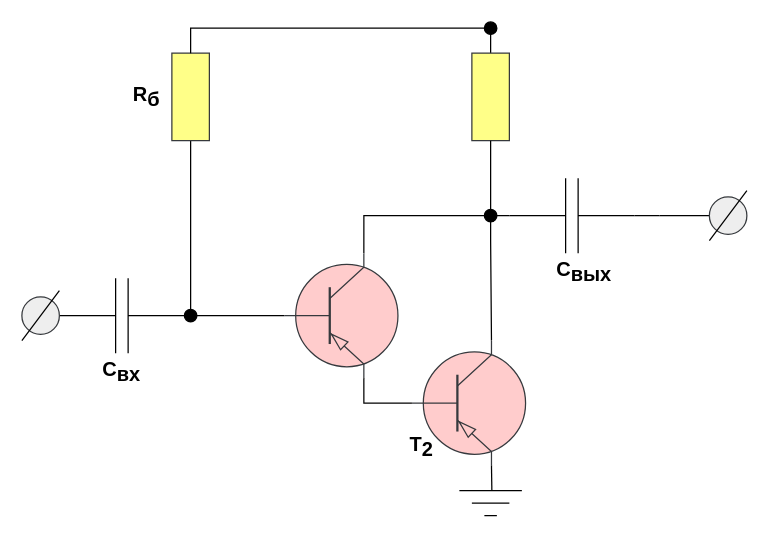
The diagram is 770 pixels wide and 539 high, and some of its shapes have lost their labels. Each missing label, with the centre of its shape:
R к: the point at 490,96
T 1: the point at 340,315
